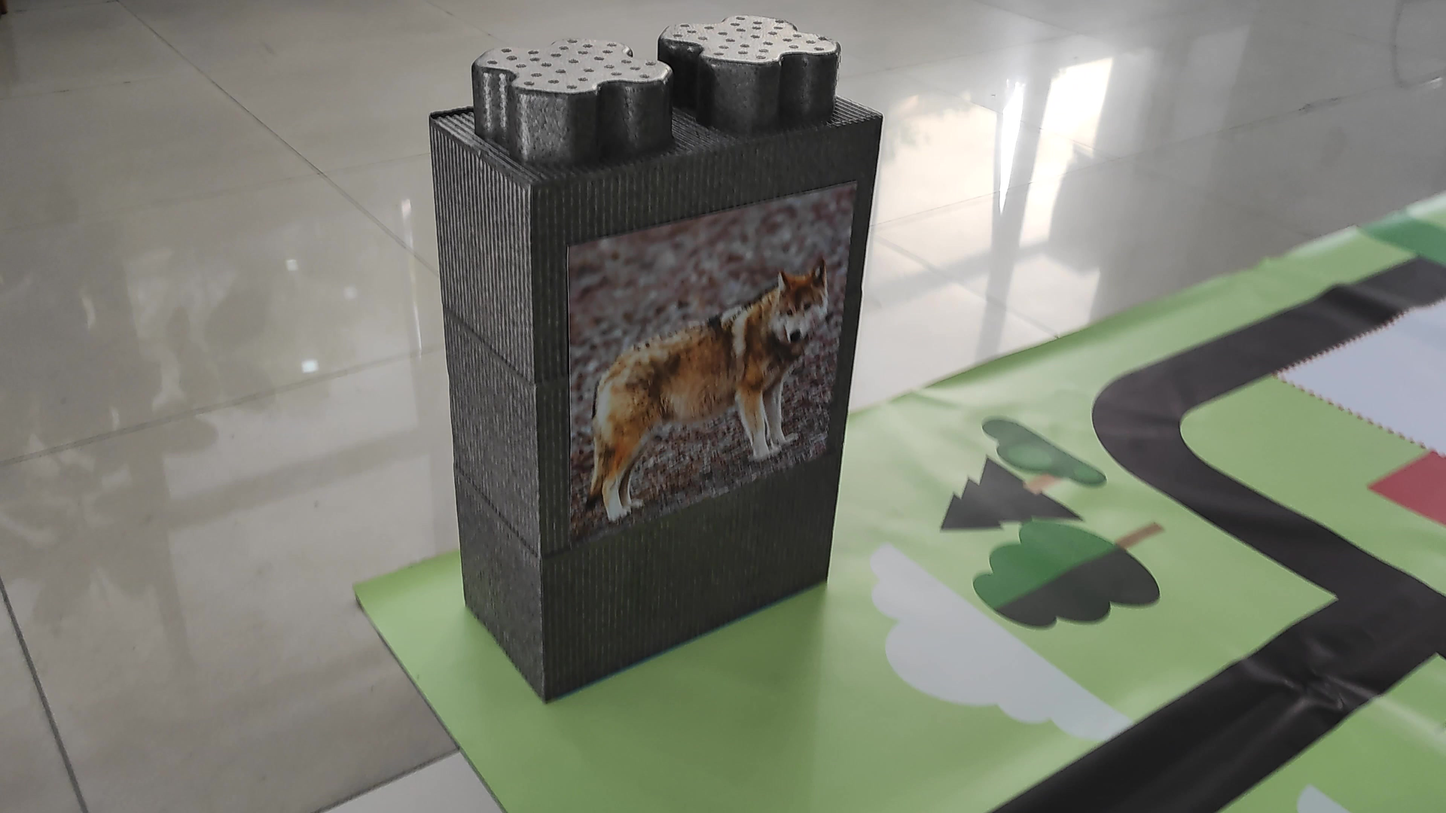wolf: (570, 208, 842, 497)
